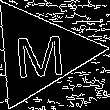M_N: (12, 26, 67, 80)
